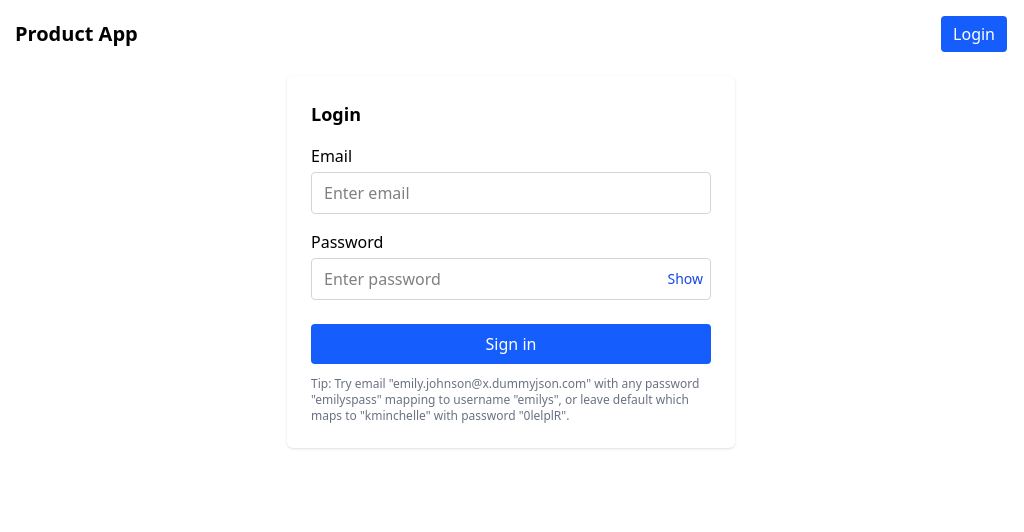
Login page › handles network error gracefully
In the field named "email": x=511, y=193 [311, 172, 711, 214], type "emily.johnson@x.dummyjson.com"
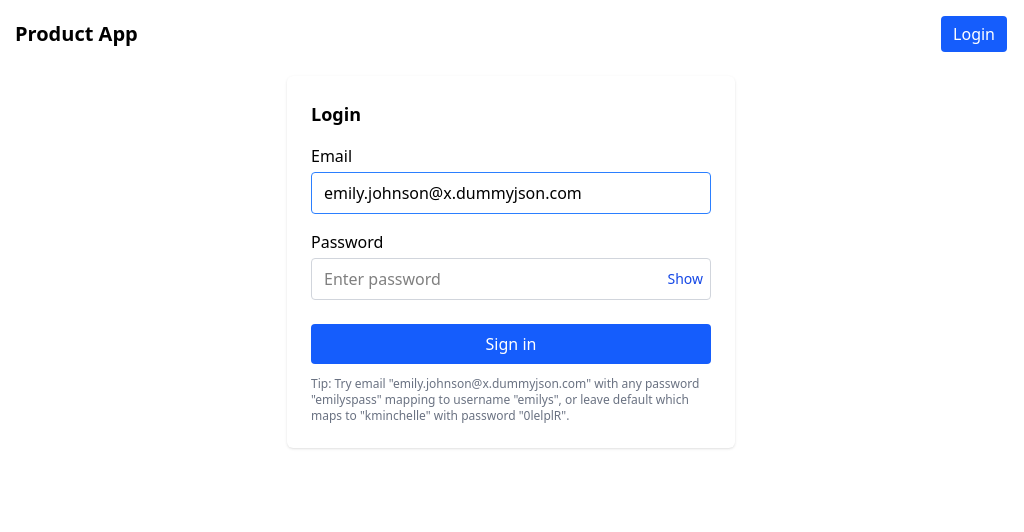
In the password field named "password": x=511, y=279 [311, 258, 711, 300], type "emilyspass"
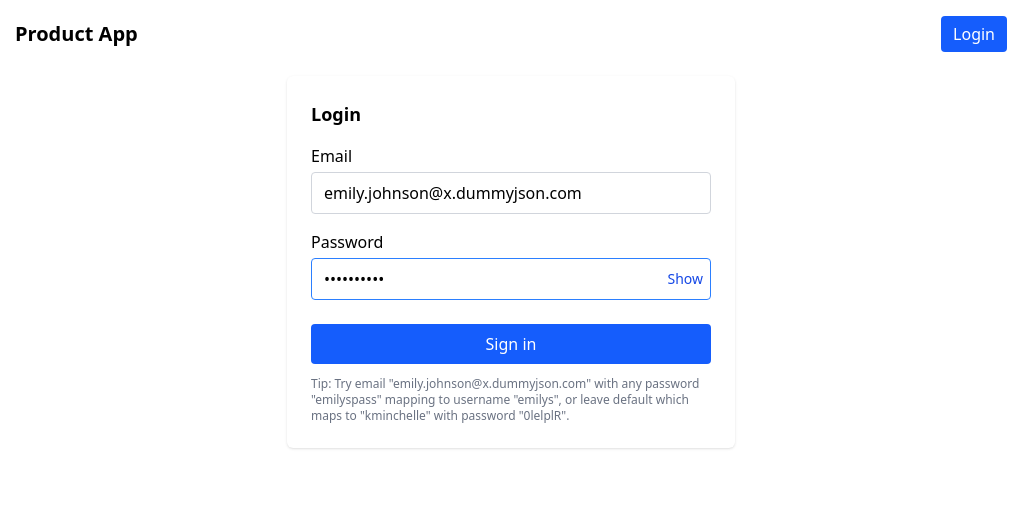
Click the button "Sign in": x=511, y=344 [311, 324, 711, 364]
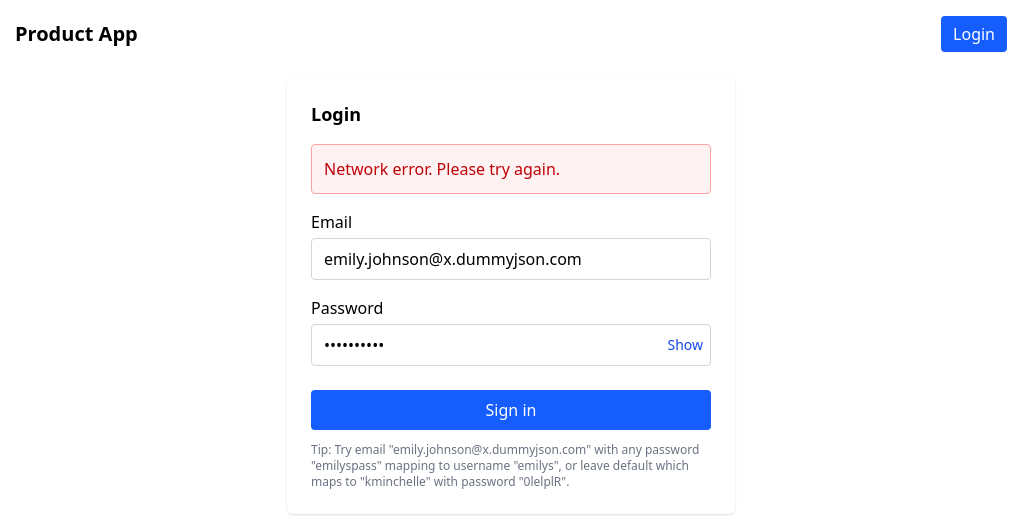
Expected: the text "Network error. Please try again." is shown, [311, 144, 711, 194]
